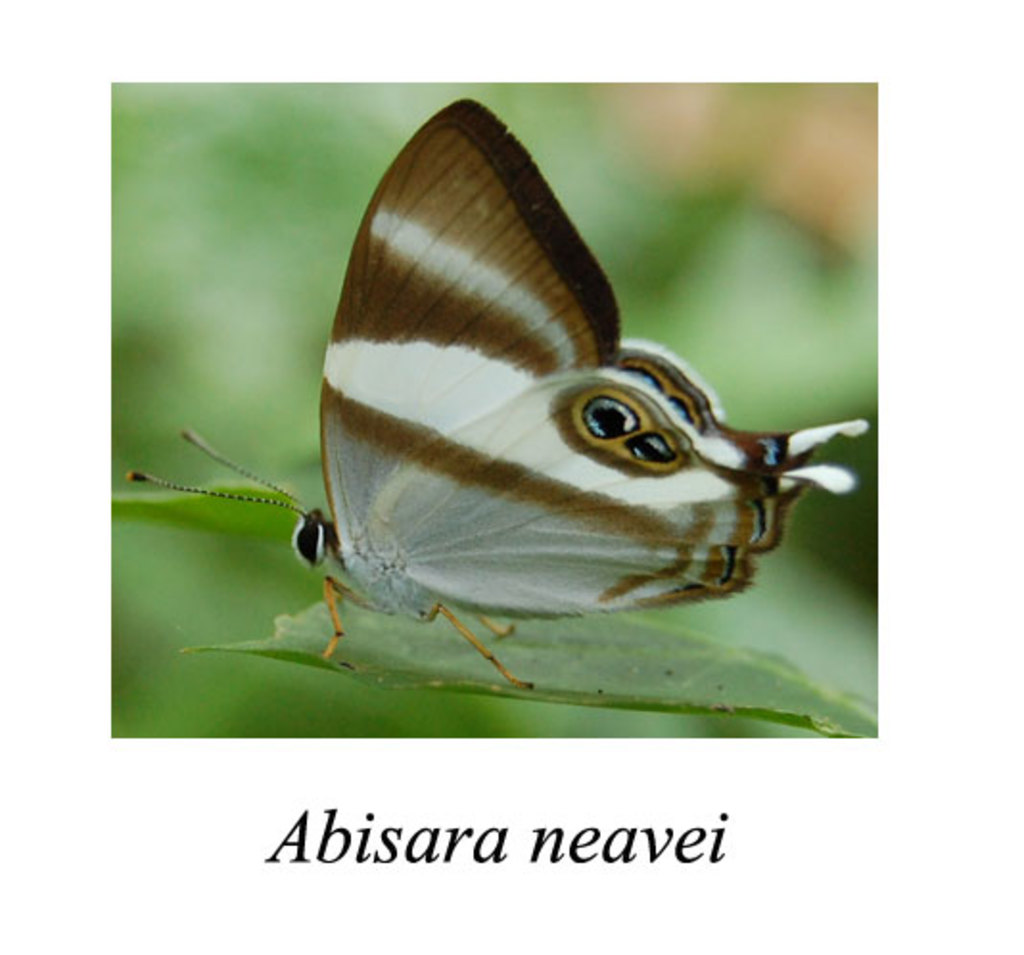Butterfly: (279, 98, 862, 673)
